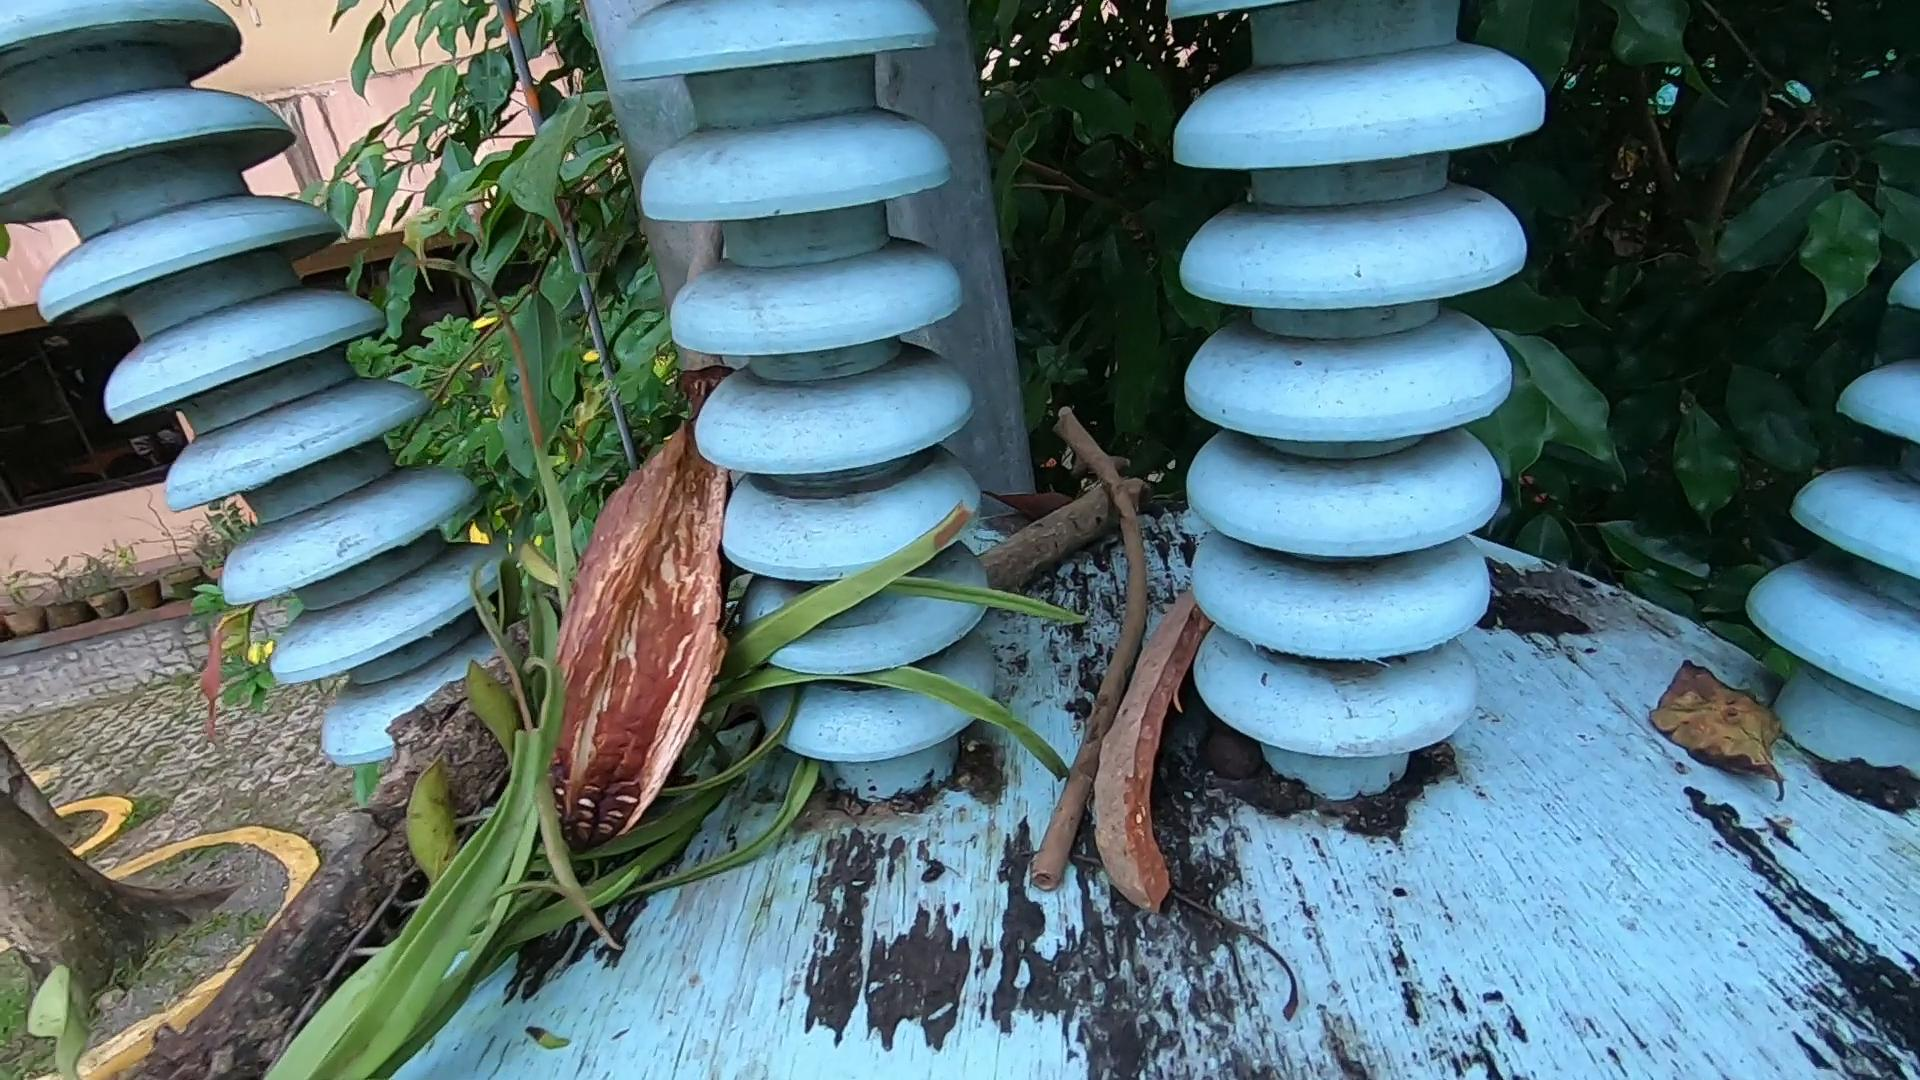branch with leaves: (1, 248, 1063, 1044)
leaf: (1643, 655, 1808, 793)
mahogany fruit: (498, 365, 816, 876), (1114, 556, 1327, 1080)
tree branch: (1036, 392, 1149, 891), (971, 465, 1141, 588)
